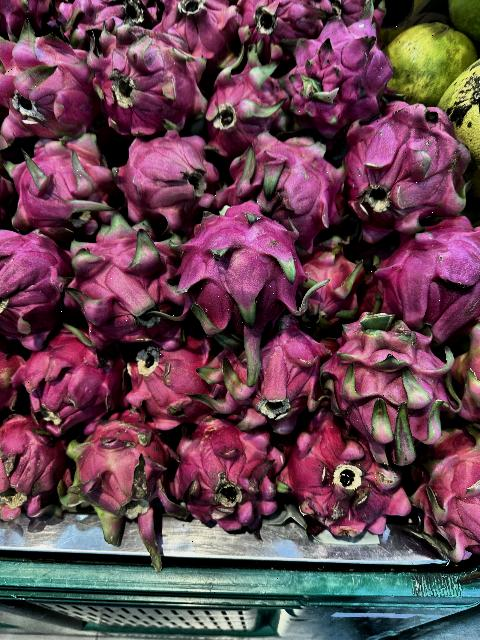buah-naga-matang: (316, 308, 466, 457), (176, 198, 312, 342), (344, 105, 476, 242), (276, 411, 404, 539), (62, 418, 182, 554), (63, 225, 190, 353), (201, 315, 321, 425), (176, 411, 280, 534), (85, 22, 202, 130), (216, 138, 338, 238), (378, 219, 480, 337), (0, 138, 120, 235), (283, 12, 385, 124), (104, 130, 220, 226), (0, 30, 98, 140), (194, 44, 286, 148), (412, 418, 480, 550), (1, 228, 69, 348), (121, 338, 215, 424), (16, 338, 117, 418), (1, 411, 61, 523)
